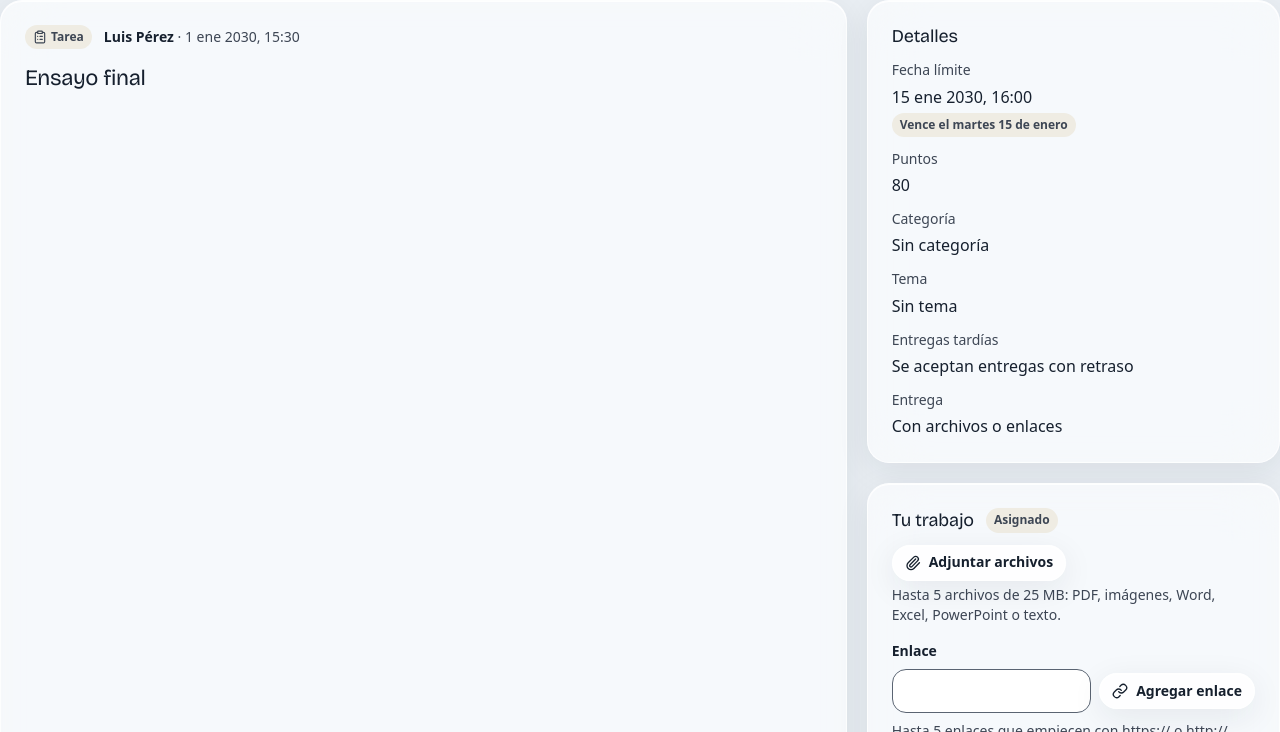
Scenario: ataque ENTREGAS-01d r2: cada código al entregar (qué renueva, qué anuncia, foco) › 409 ENTREGA_CALIFICADA: renueva tarea y entrega una vez (true), 1 aviso, foco fuera de <body>
This screenshot has width=1280, height=732.
In the field labelled "Enlace": coordinates (991, 691) x1=892 y1=669 x2=1091 y2=713, type "https://ejemplo.com/a"
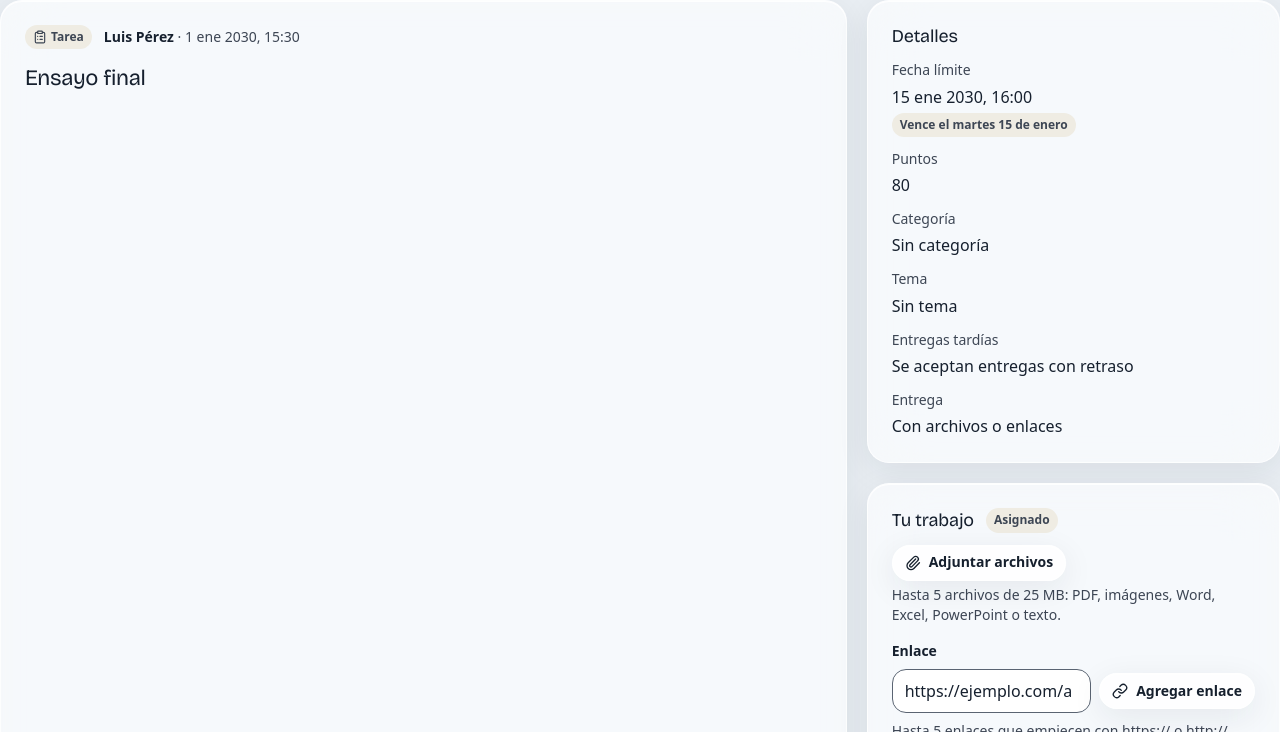
Click the button "Agregar enlace": coordinates (1177, 691) x1=1099 y1=673 x2=1255 y2=709
(page scrolled)
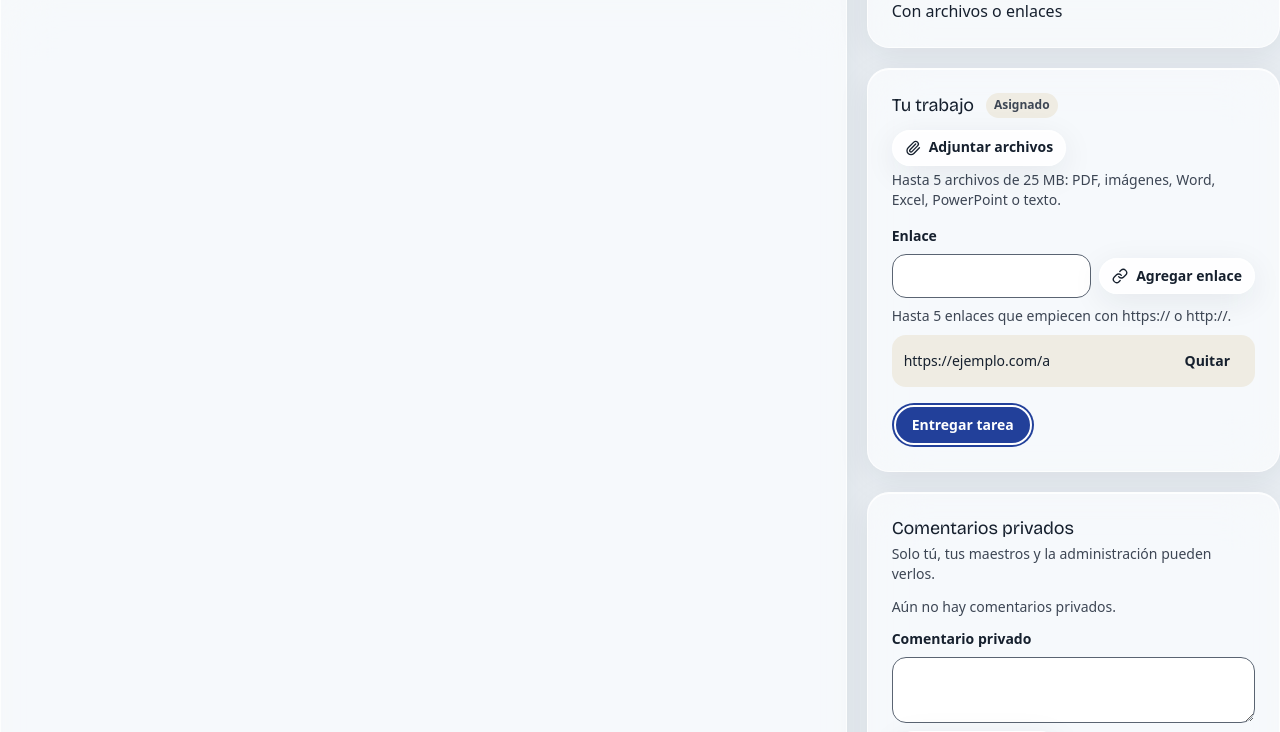
Click the button "Entregar tarea": coordinates (963, 425) x1=892 y1=403 x2=1034 y2=447
(page scrolled)
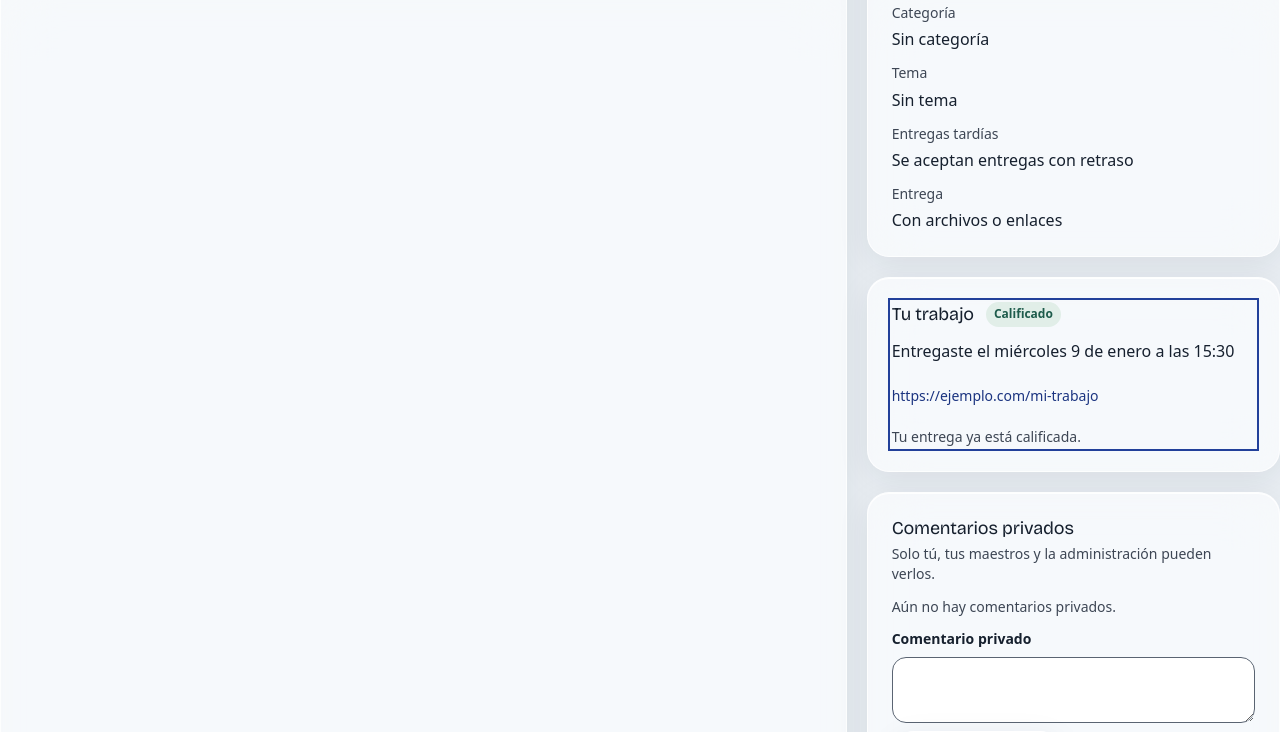
Expected: the element "Tu trabajo" is shown, x1=892 y1=302 x2=1255 y2=447
Expected: the text "Tu entrega ya está calificada." is shown, x1=892 y1=426 x2=1081 y2=446
Expected: the text "Asignado" is gone
